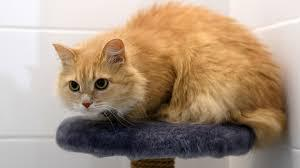animals: (51, 1, 288, 143)
